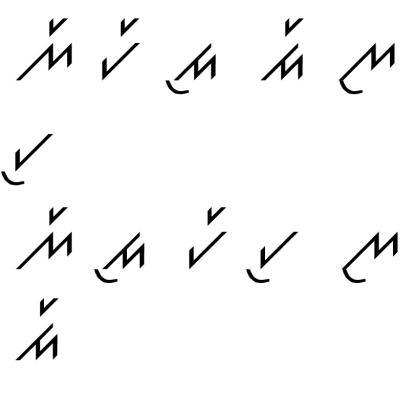dar: (11, 293, 63, 371), (261, 14, 313, 85)
daw: (90, 220, 150, 291), (158, 38, 221, 98)
nar: (13, 10, 78, 81), (16, 203, 74, 277)
naw: (337, 217, 403, 291), (334, 34, 398, 97)
par: (178, 196, 228, 272), (96, 13, 142, 81)
paw: (238, 214, 305, 294), (0, 126, 56, 189)
